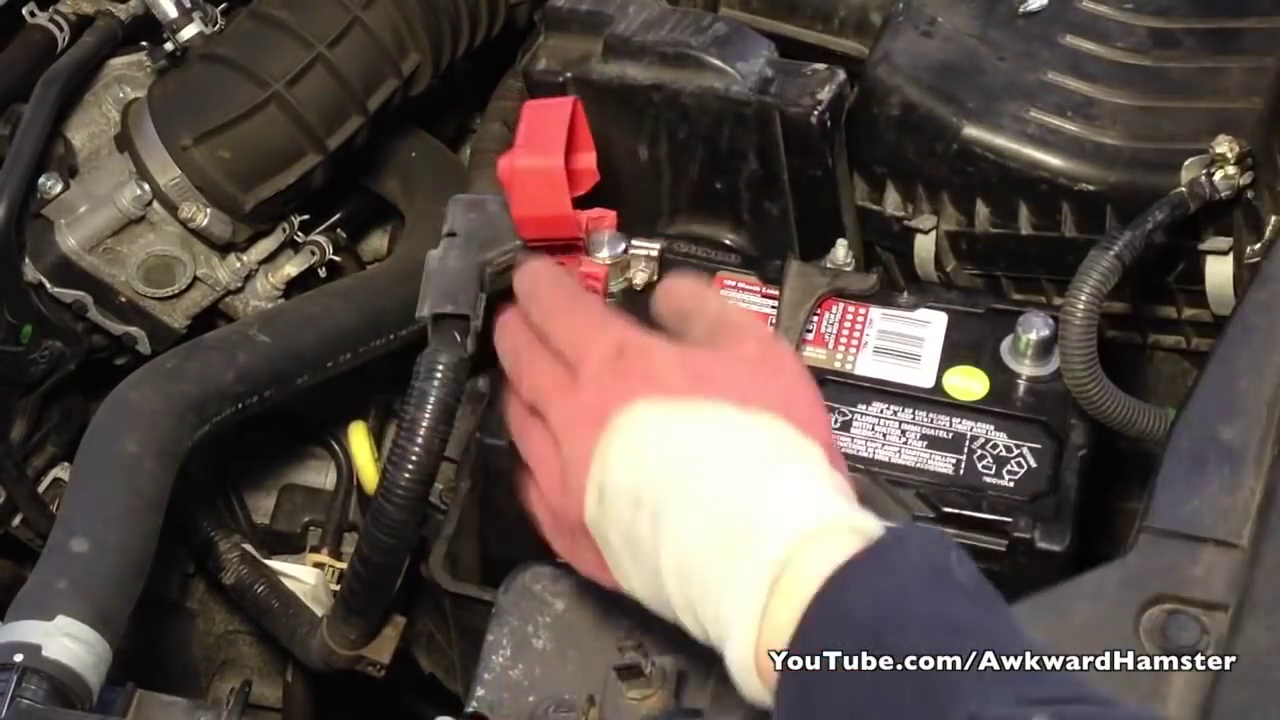battery: (565, 209, 1084, 526)
neg_disconnected: (955, 279, 1106, 404)
pos_connected: (513, 141, 653, 308)
pos_touched: (485, 133, 692, 375)
